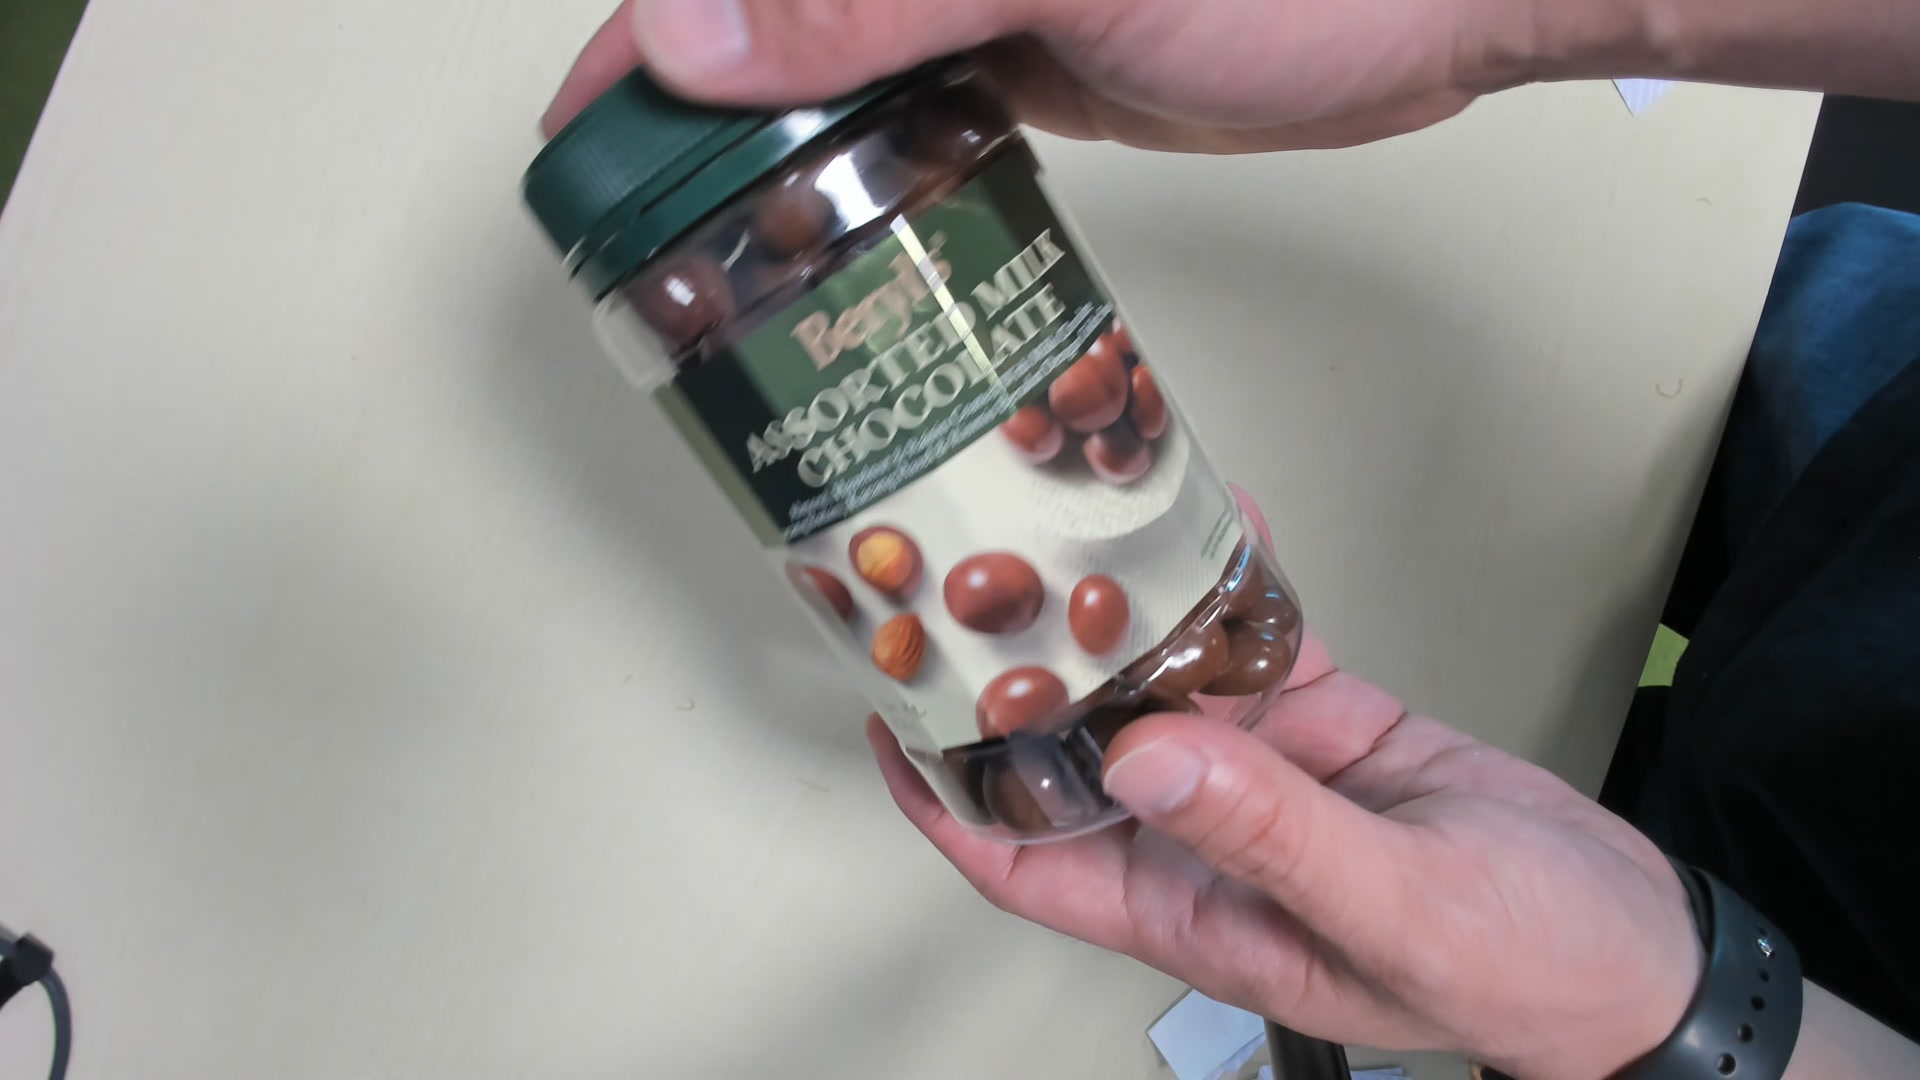SweetsChocolatesOthers_400-499g_Halal_Nonhealthy: (531, 55, 1317, 836)
